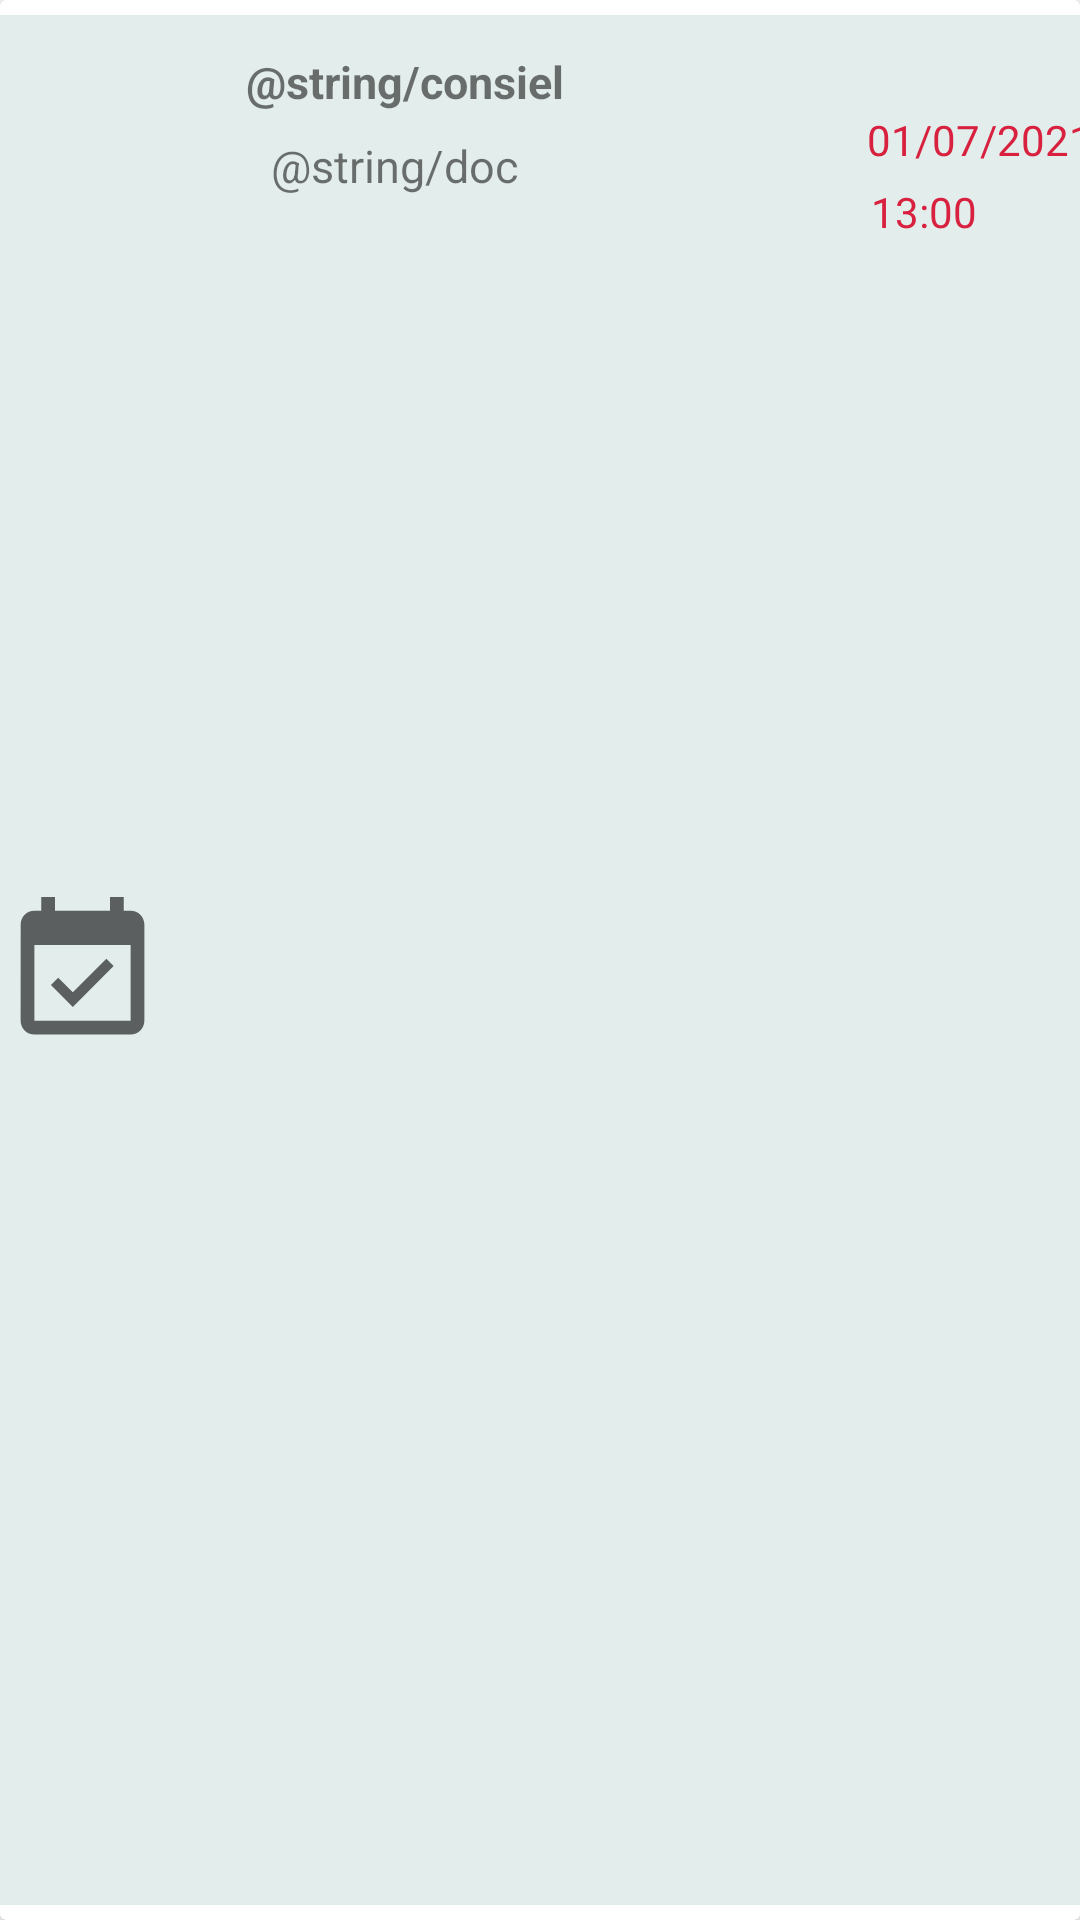

Named icons in this screenshot (1080×1920) and their bounding boxes, rect(x1, y1, x2, y2):
event available: rect(20, 897, 145, 1035)
